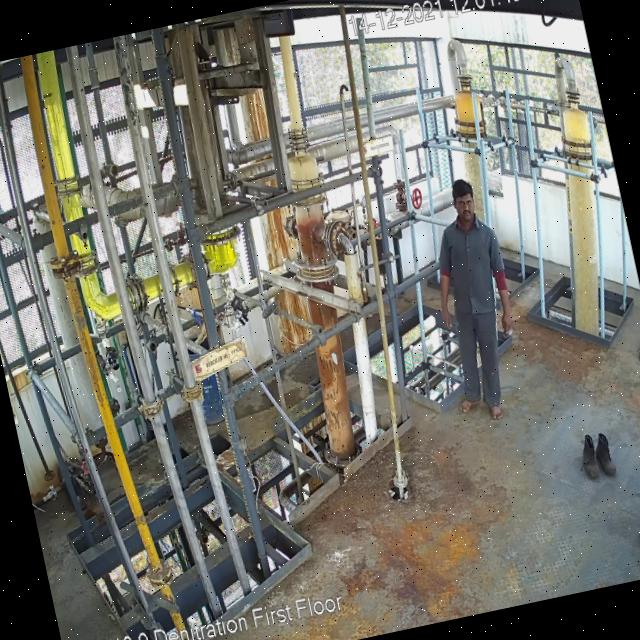boots: (574, 430, 606, 482), (592, 431, 620, 476)
no-boots: (454, 395, 482, 414), (485, 402, 505, 425)
